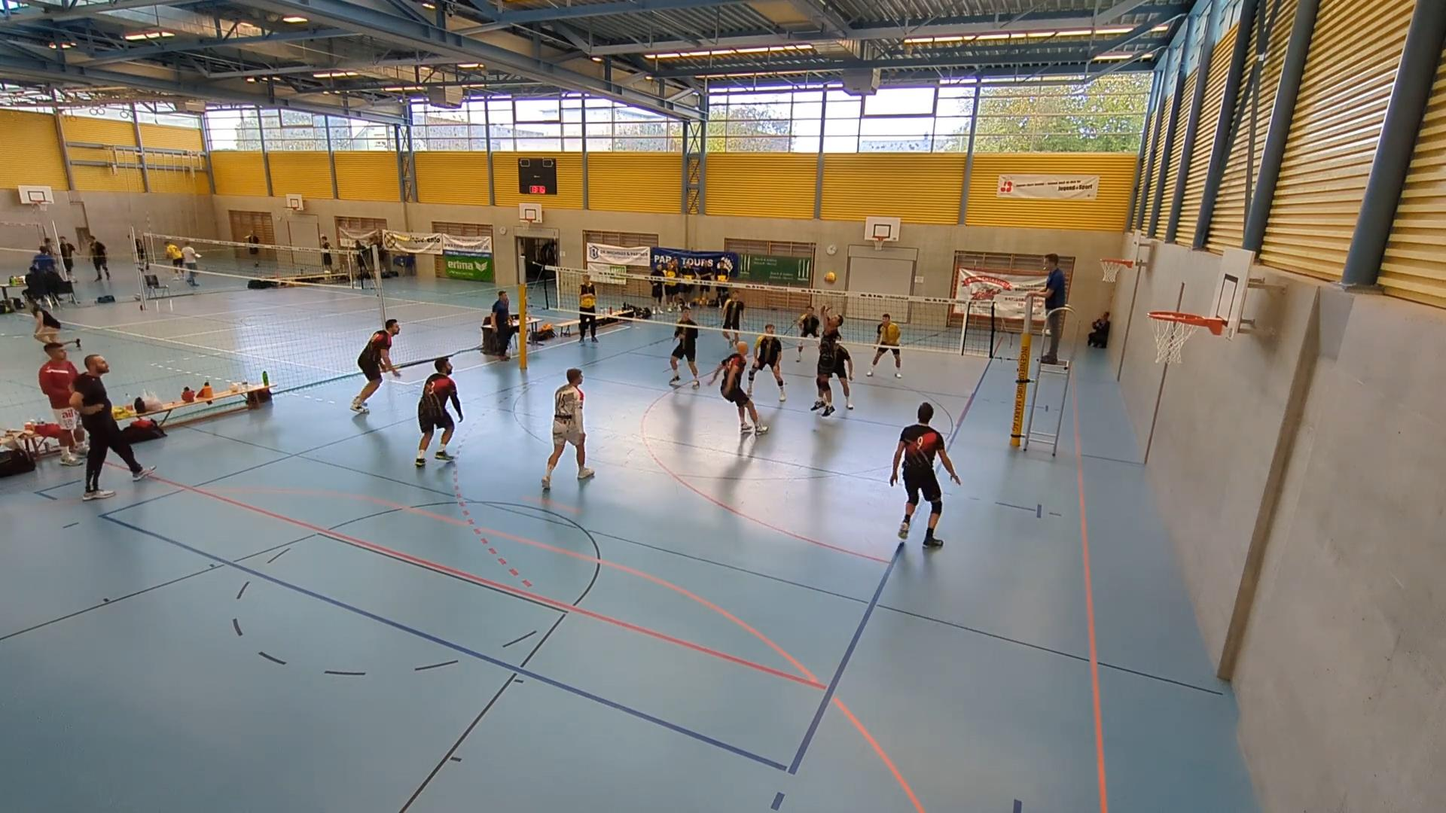Player: (890, 403, 959, 547), (541, 368, 594, 489), (709, 342, 767, 434), (415, 358, 462, 467), (350, 319, 400, 413), (748, 324, 786, 402), (670, 306, 699, 388), (867, 314, 901, 378), (834, 340, 853, 410), (722, 296, 745, 343), (795, 304, 820, 338)
Set: (809, 306, 857, 422)
ball: (822, 270, 837, 284)
